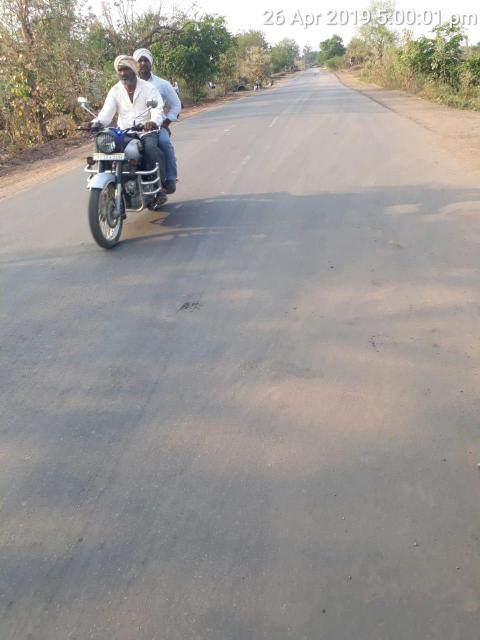motor: (76, 124, 167, 251)
non-helm: (115, 57, 139, 86), (135, 49, 154, 75)
